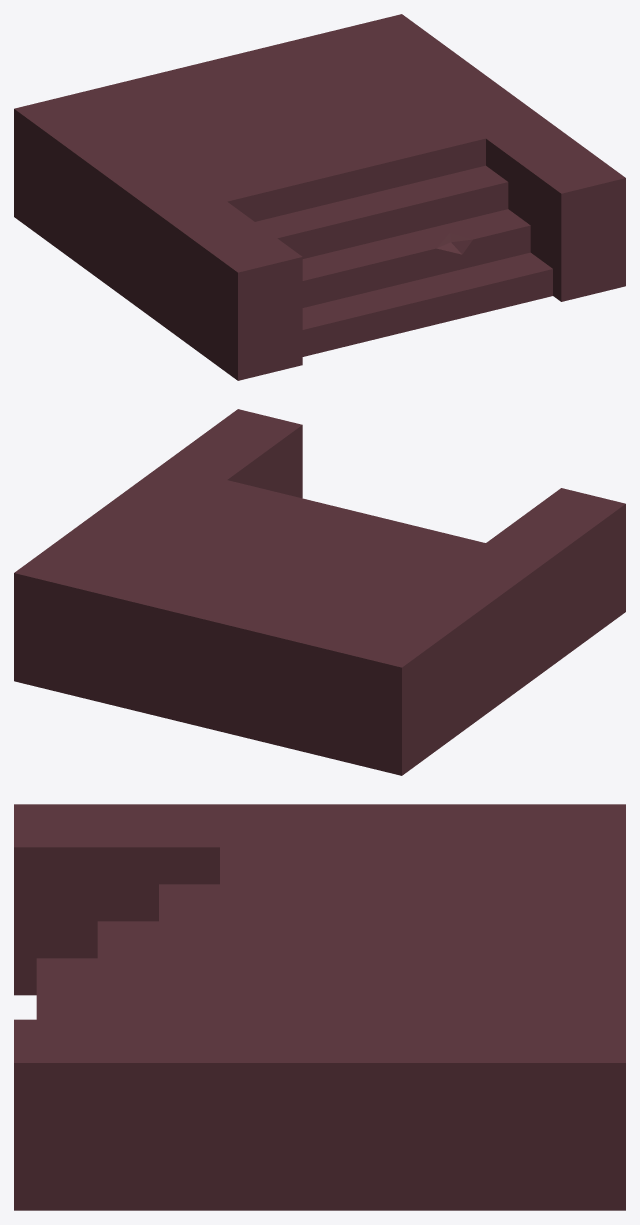
The model's file is SM_Stairs_Front_Enterance_Big_Empire.fbx.
The picture shows the model from 3 angles, top to bottom: view 1: azimuth 30°, elevation 25°; view 2: azimuth 150°, elevation 25°; view 3: azimuth 270°, elevation 25°; orthographic projection. The views are drawn at different scales.
Visible parts, largest first — view 1: SM_Stairs_Front_Enterance_Big_Empire; view 2: SM_Stairs_Front_Enterance_Big_Empire; view 3: SM_Stairs_Front_Enterance_Big_Empire.
Part boxes in pixels (x1,y1,x2,y2): SM_Stairs_Front_Enterance_Big_Empire: [14, 14, 625, 380]; SM_Stairs_Front_Enterance_Big_Empire: [14, 409, 625, 775]; SM_Stairs_Front_Enterance_Big_Empire: [14, 804, 625, 1210].
Bounding box in the file's own units: 3 × 0.8 × 3.
